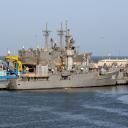Fragata: (8, 18, 121, 93)
